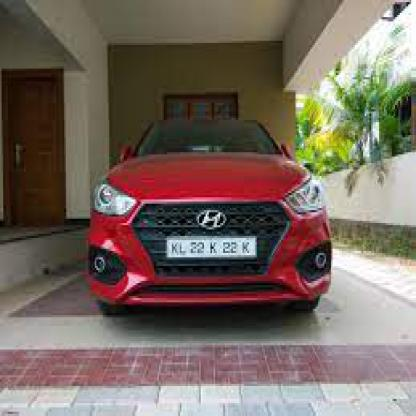car: (87, 113, 345, 320)
